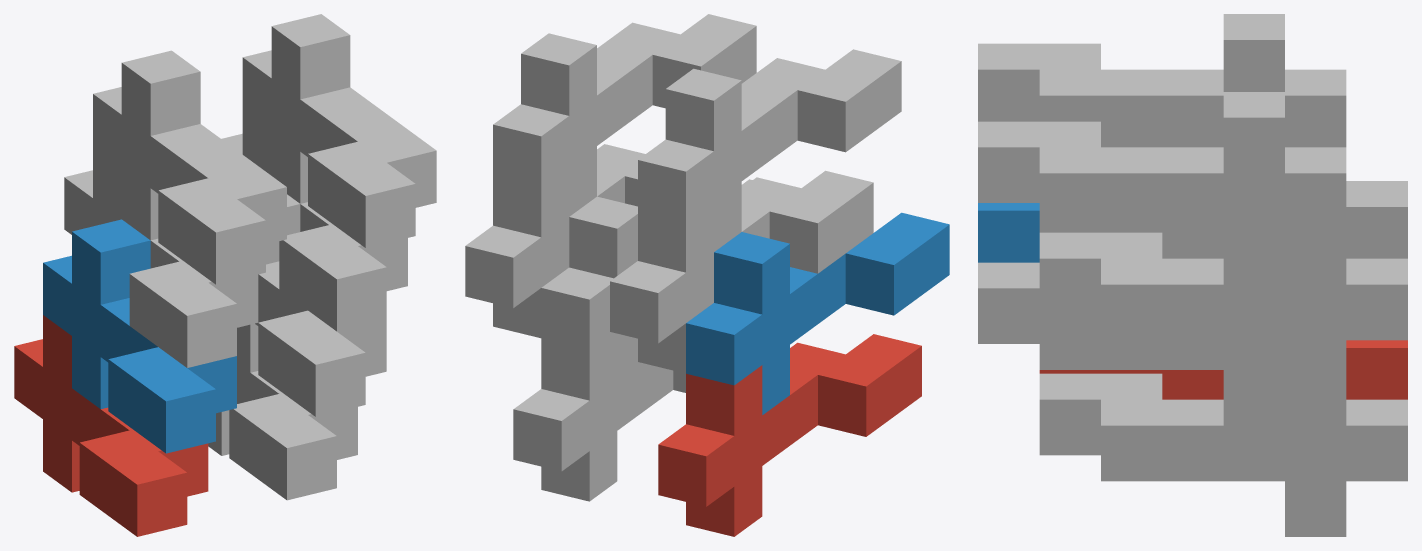
File: tiling.obj
3 renders of one model, left to right at view 1: azimuth 30°, elevation 25°; view 2: azimuth 150°, elevation 25°; view 3: azimuth 270°, elevation 25°, orthographic. The views are drawn at different scales.
Parts seen in each view (by area): view 1: copy_1_domain_4, copy_1_domain_8, copy_1_domain_2, copy_1_domain_1, copy_1_domain_3, copy_1_domain_6, copy_1_domain_7, copy_1_domain_5; view 2: copy_1_domain_4, copy_1_domain_1, copy_1_domain_8, copy_1_domain_2, copy_1_domain_3, copy_1_domain_5, copy_1_domain_7, copy_1_domain_6; view 3: copy_1_domain_8, copy_1_domain_7, copy_1_domain_5, copy_1_domain_4, copy_1_domain_6, copy_1_domain_3, copy_1_domain_1, copy_1_domain_2.
Boxes of the visible parts, x1,y1,x2,y2 form: copy_1_domain_4: (93,50,286,284); copy_1_domain_8: (242,14,436,247); copy_1_domain_2: (43,219,236,453); copy_1_domain_1: (14,315,208,536); copy_1_domain_3: (64,146,258,367); copy_1_domain_6: (237,194,386,416); copy_1_domain_7: (221,110,407,331); copy_1_domain_5: (208,363,357,500); copy_1_domain_4: (638,49,901,251); copy_1_domain_1: (658,334,921,536); copy_1_domain_8: (493,14,756,216); copy_1_domain_2: (686,212,949,414); copy_1_domain_3: (610,170,873,373); copy_1_domain_5: (513,332,685,501); copy_1_domain_7: (465,144,645,338); copy_1_domain_6: (541,177,800,379); copy_1_domain_8: (978,92,1346,284); copy_1_domain_7: (1039,229,1407,395); copy_1_domain_5: (1039,373,1407,536); copy_1_domain_4: (978,14,1346,147); copy_1_domain_6: (978,262,1284,425); copy_1_domain_3: (1039,181,1407,258); copy_1_domain_1: (1039,340,1407,399); copy_1_domain_2: (978,203,1039,262).
Size of the model in its own units: 6 by 8 by 7.
